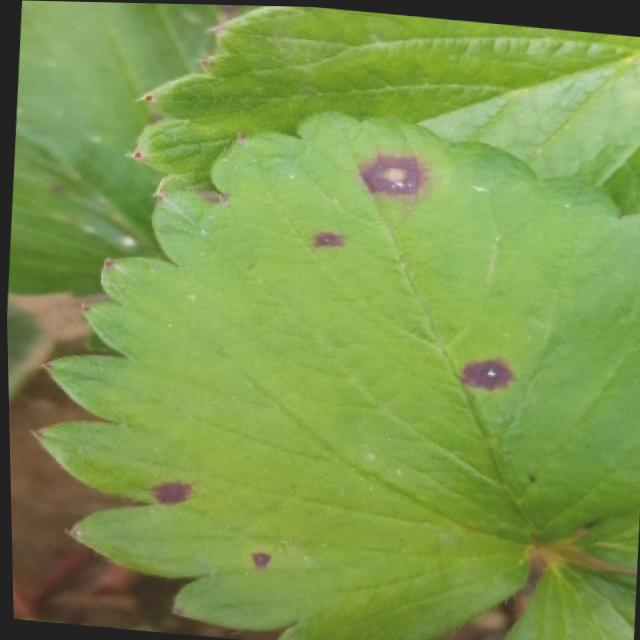Leaf Spot: (24, 109, 640, 640), (121, 5, 640, 210), (15, 0, 257, 231), (6, 117, 169, 304), (496, 550, 634, 640)
